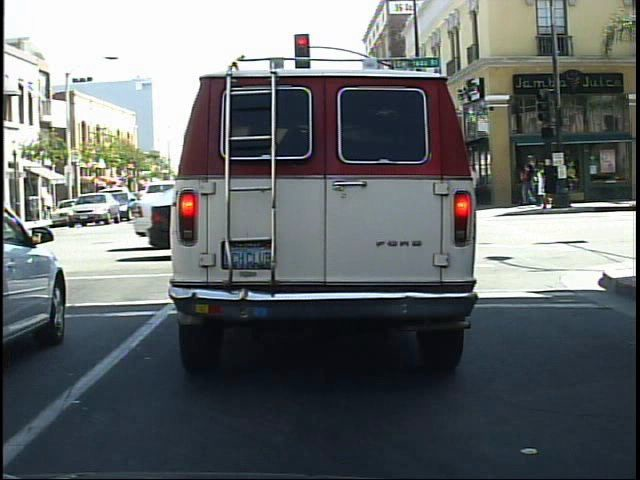person: (537, 154, 564, 219), (522, 150, 543, 211), (516, 157, 535, 206), (537, 159, 550, 209)
